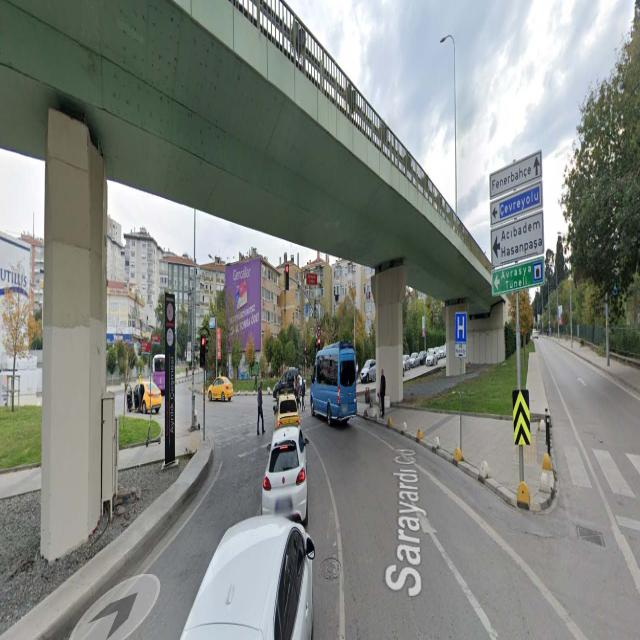kirmizi: (200, 335, 206, 368), (284, 263, 288, 291)
